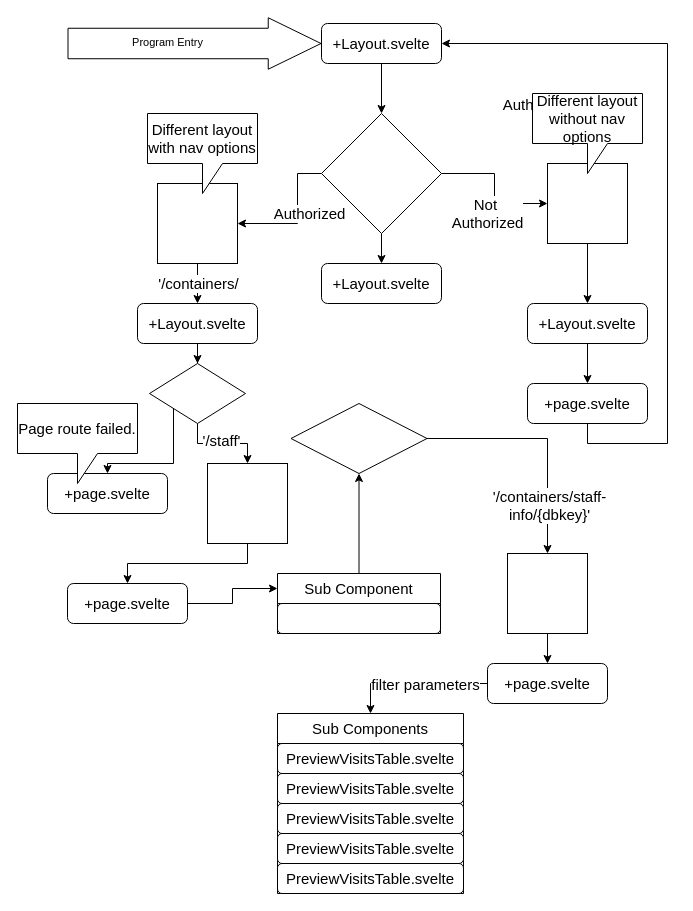
Image size: 693x911. Some labels were removed from this diagram. Here are the shapes that lost their labels. From the top down, the centre of each, then its label:
pixel 381 173: Is Authorised?
pixel 197 223: Dashboard
pixel 587 203: Auth Process
pixel 197 393: URL routing
pixel 358 438: User selects staff member
pixel 247 503: Staff Page
pixel 547 593: Staff Info
pixel 358 618: PreviewStaffTable.svelte
